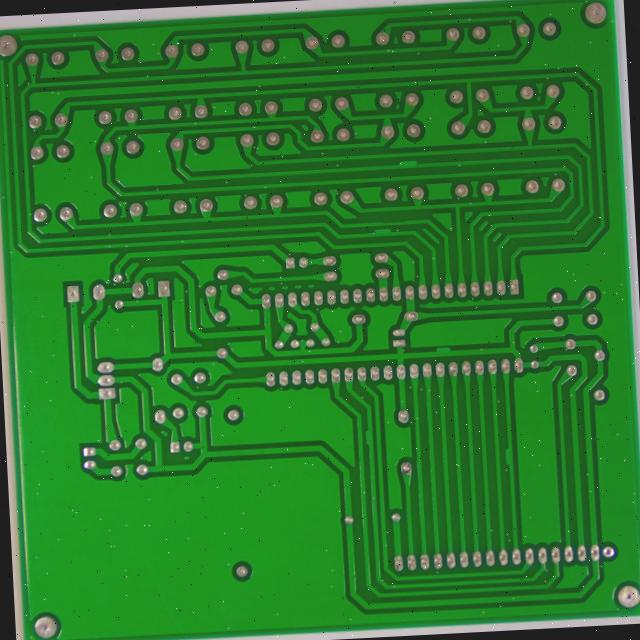spur: (404, 138, 437, 157), (516, 438, 533, 462), (445, 336, 470, 352), (373, 421, 387, 443), (383, 212, 406, 225)
